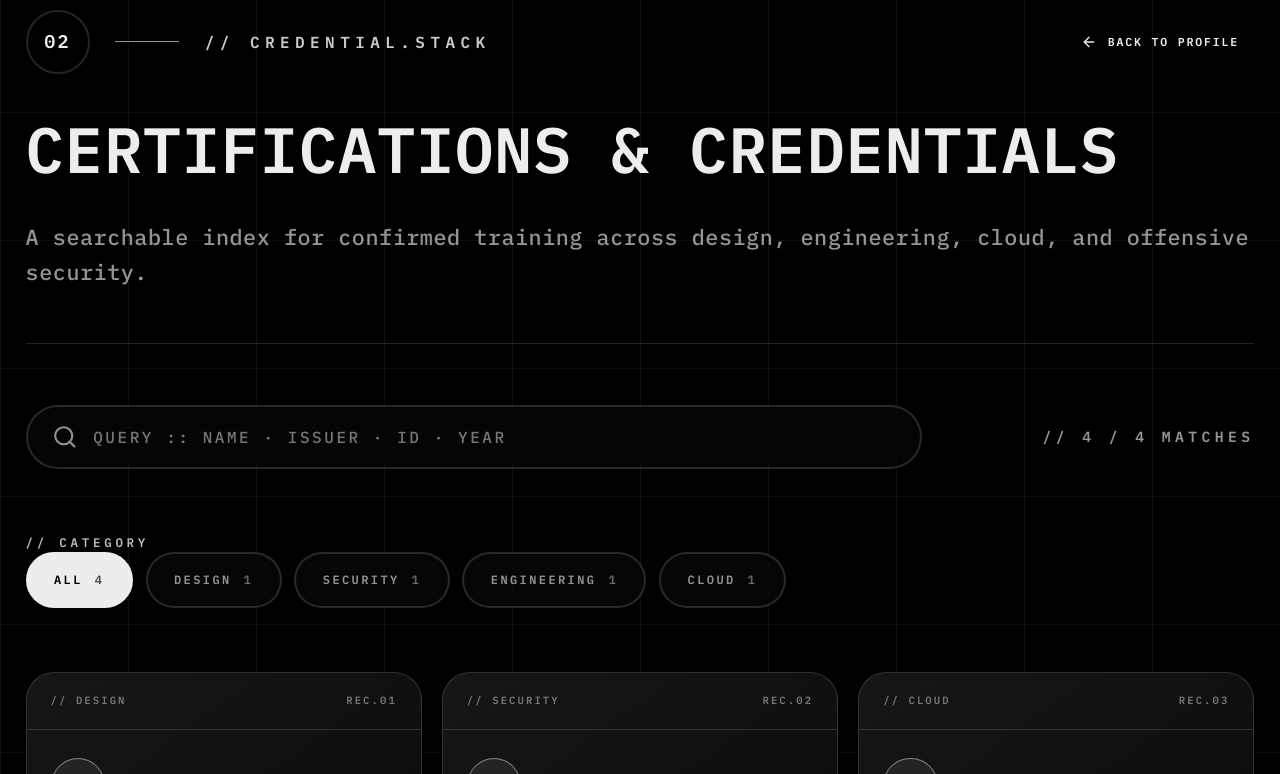
Test case: CertificationsPage › resets a zero-result query and category selection
Click the button "Security 1" at {"x": 372, "y": 580}, box [294,552,450,608]
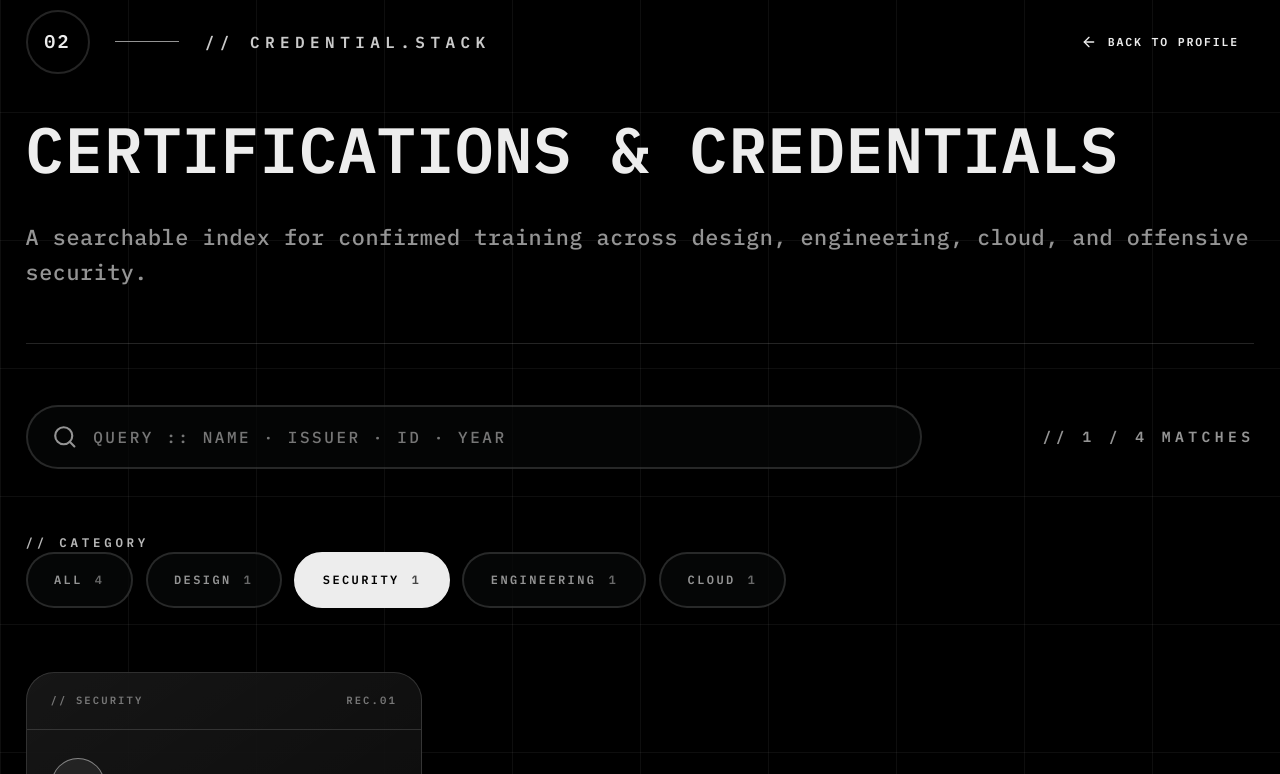
Type "not-a-credential" into the search field with id "credential-search" at {"x": 494, "y": 437}, box [93,425,896,449]
(page scrolled)
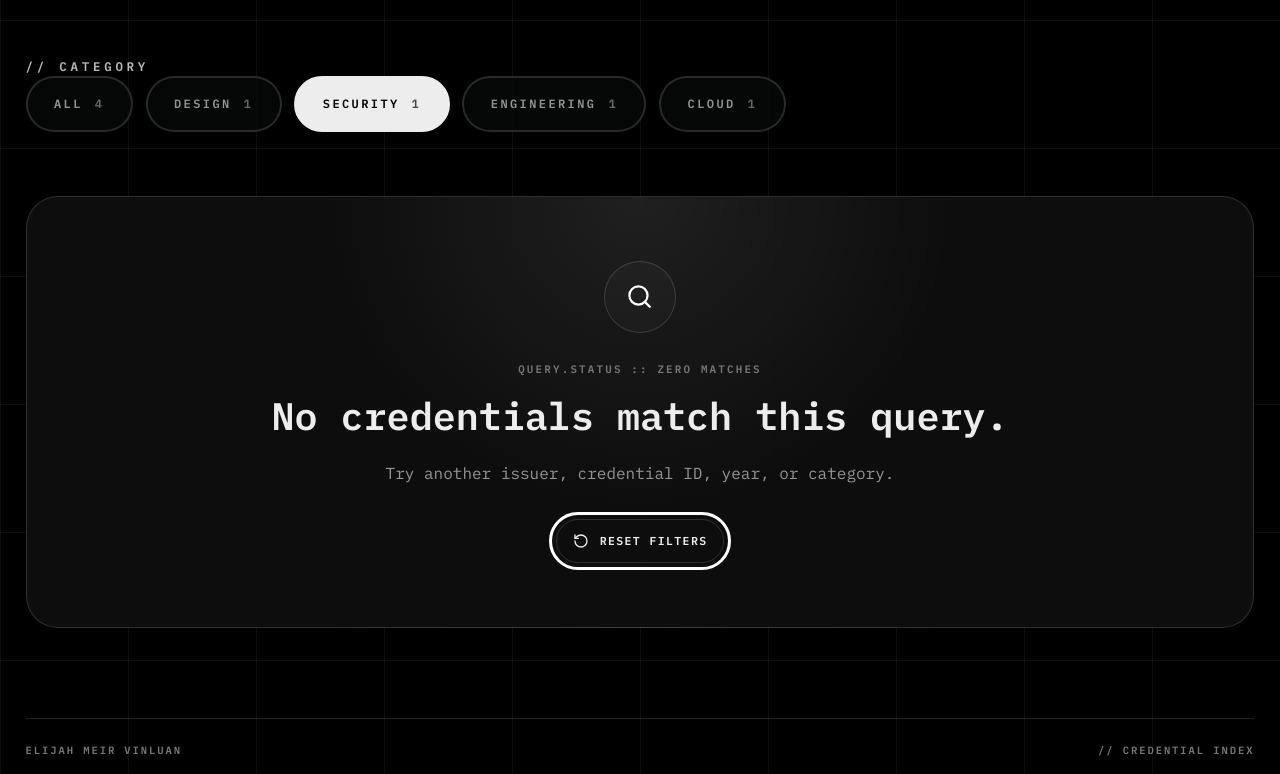
Check: the element that starts with "query.status :: zero matches" shows "No credentials match this query.", box [271,391,1008,441]
Click the button "Reset filters" at {"x": 640, "y": 541}, box [556,519,724,563]
(page scrolled)
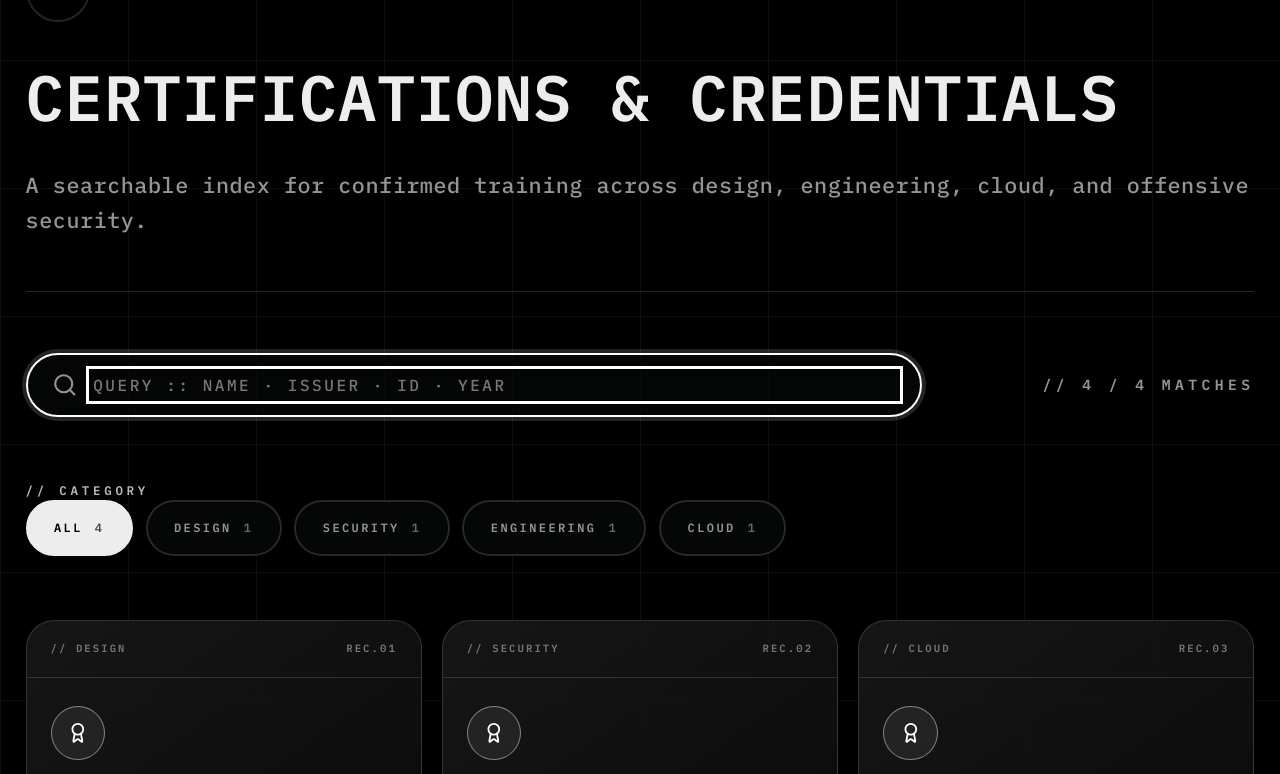
Check: the search field with id "credential-search" is empty, box [93,373,896,397]
